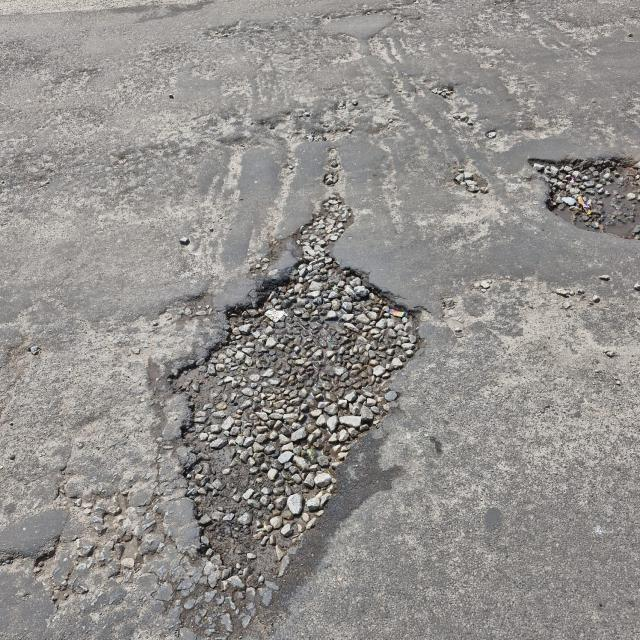pothole: (171, 190, 433, 575), (4, 482, 154, 608), (416, 69, 509, 219), (448, 276, 606, 356), (516, 144, 640, 243), (238, 110, 392, 189), (171, 562, 304, 638)
